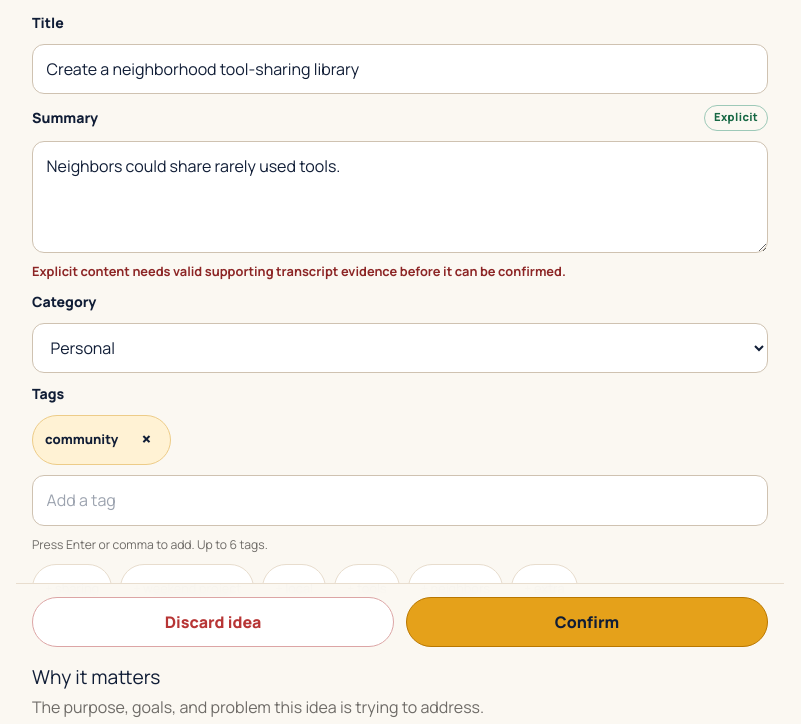
Test: IdeaCandidateForm controlled draft › blocks confirmation when explicit evidence is empty, unresolved, or malformed
Click the button "Confirm". click: {"x": 587, "y": 622}
box: [406,597,768,647]
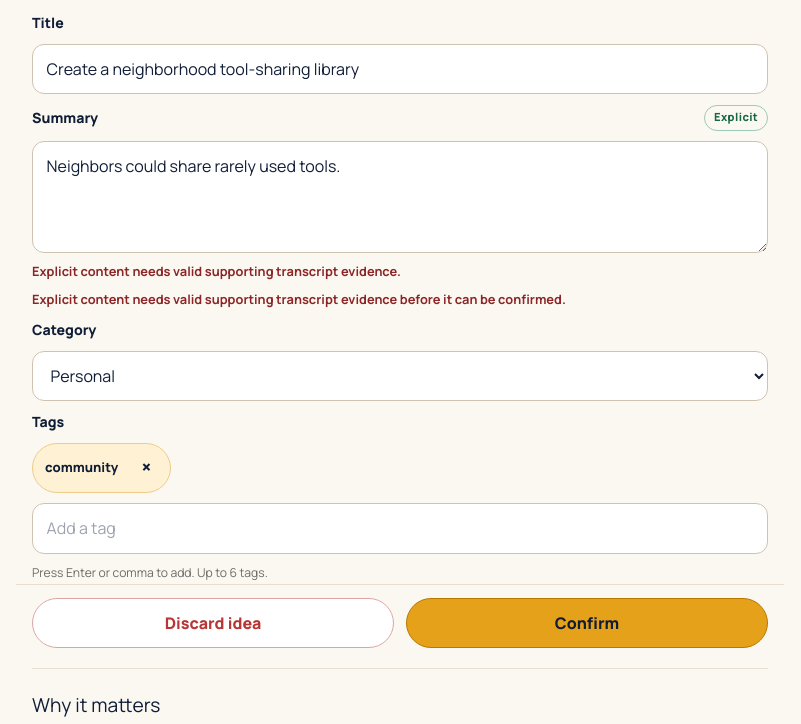
expect the text "Explicit content needs valid supporting transcript evidence." is shown: met, box [32,262,401,280]
